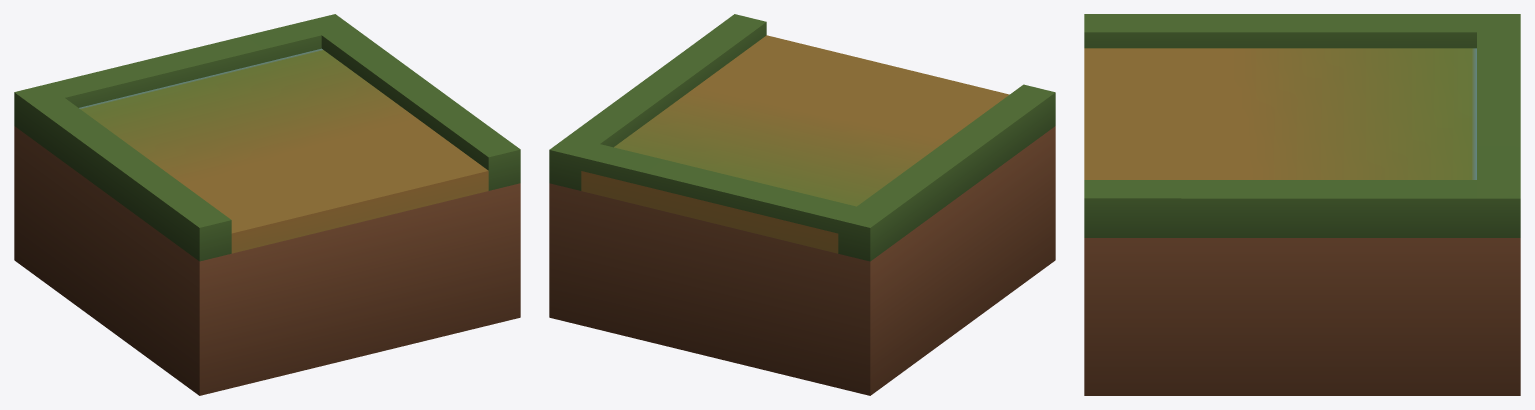
The model's file is Chemin_CulDeSac.fbx.
3 views of the same model, side by side, from view 1: azimuth 30°, elevation 25°; view 2: azimuth 150°, elevation 25°; view 3: azimuth 270°, elevation 25° (orthographic). The views are drawn at different scales.
Visible parts, largest first — view 1: Chemin_CulDeSac; view 2: Chemin_CulDeSac; view 3: Chemin_CulDeSac.
Boxes of the visible parts, x1=… form: Chemin_CulDeSac: x1=14, y1=14, x2=520, y2=395; Chemin_CulDeSac: x1=549, y1=14, x2=1055, y2=395; Chemin_CulDeSac: x1=1084, y1=14, x2=1520, y2=395.
Size of the model in its own units: 500 by 250 by 500.
